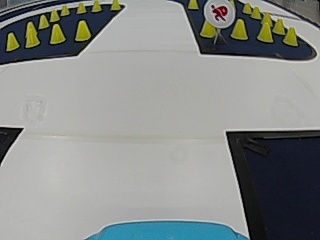thief: (203, 0, 236, 27)
